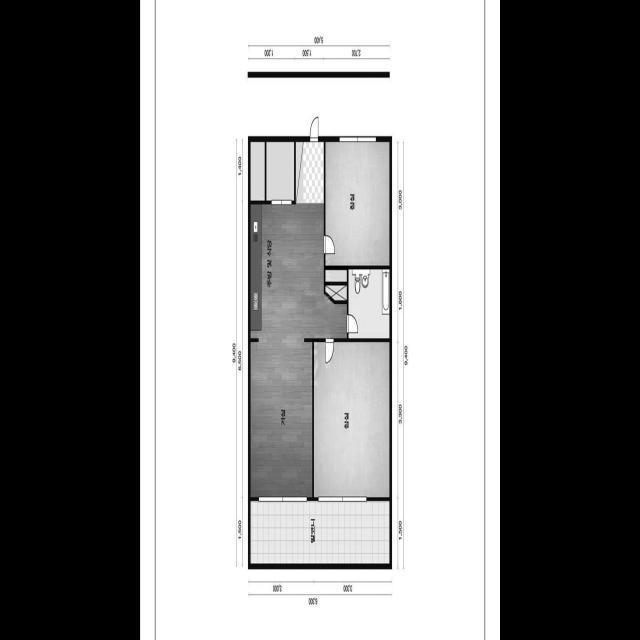background: (140, 0, 500, 640)
space_balconi: (250, 500, 390, 563)
space_bedroom: (314, 341, 389, 497), (325, 141, 389, 265)
space_front: (296, 141, 324, 203)
space_kitchen: (250, 204, 296, 337)
space_living_room: (251, 203, 347, 497)
space_other: (266, 141, 294, 200), (251, 141, 265, 200), (325, 284, 347, 300), (325, 269, 347, 281)
space_toilet: (348, 269, 390, 338)
